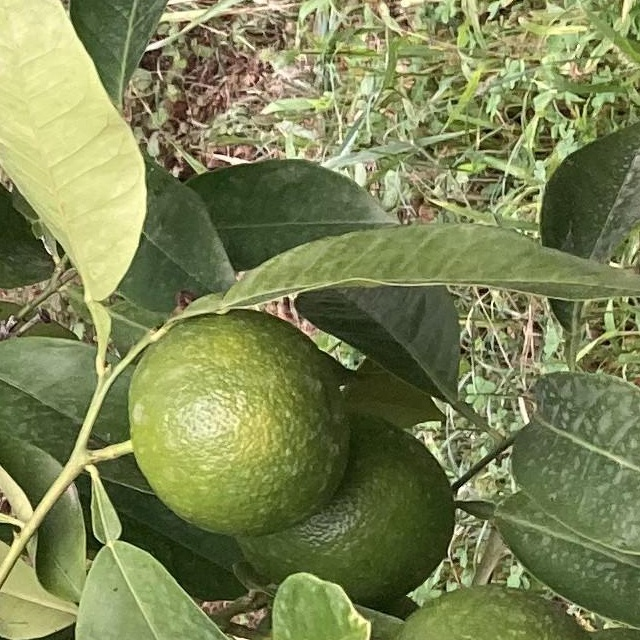orange: (122, 300, 358, 548), (227, 409, 461, 609), (358, 575, 626, 640), (578, 619, 640, 640)
